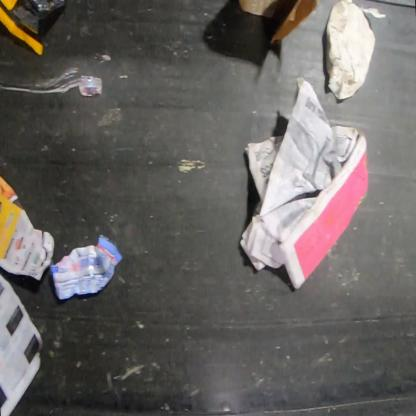cardboard: (0, 174, 55, 284), (238, 0, 318, 43)
soft_plastic: (46, 231, 126, 301), (0, 0, 69, 57)
